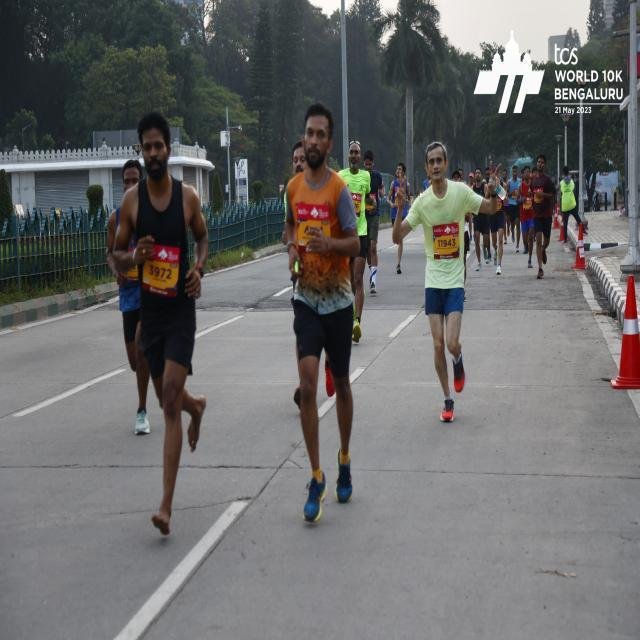dorsal: (138, 239, 184, 301), (430, 223, 463, 264)
